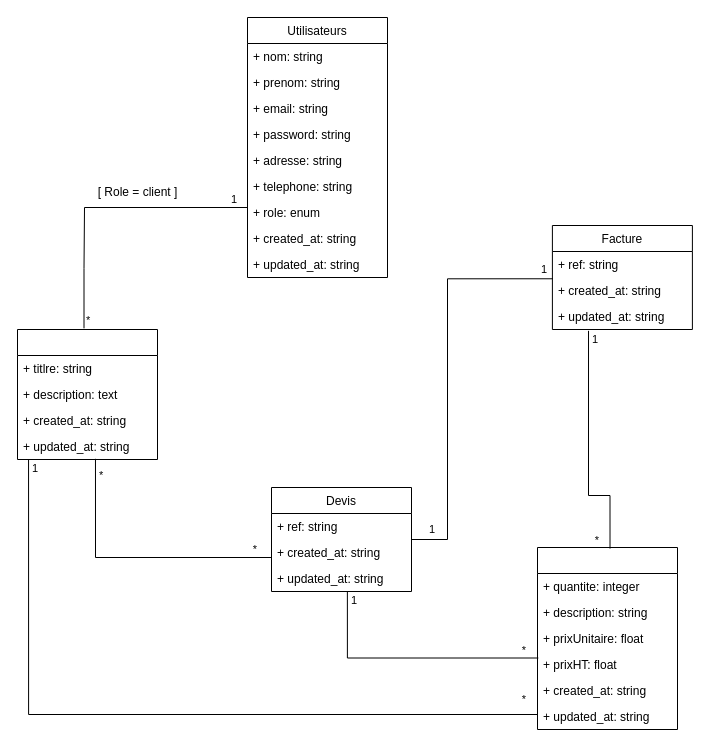
This 710x750 diagram has some shape labels left out. Each missing label, with the box of its shape:
Service: (16, 328, 158, 460)
Taches: (536, 546, 678, 730)
